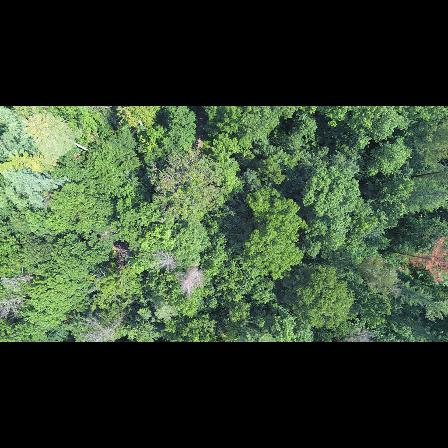Dead: (76, 312, 127, 342), (174, 266, 208, 298), (0, 292, 32, 320), (0, 271, 39, 291), (152, 250, 176, 277)
